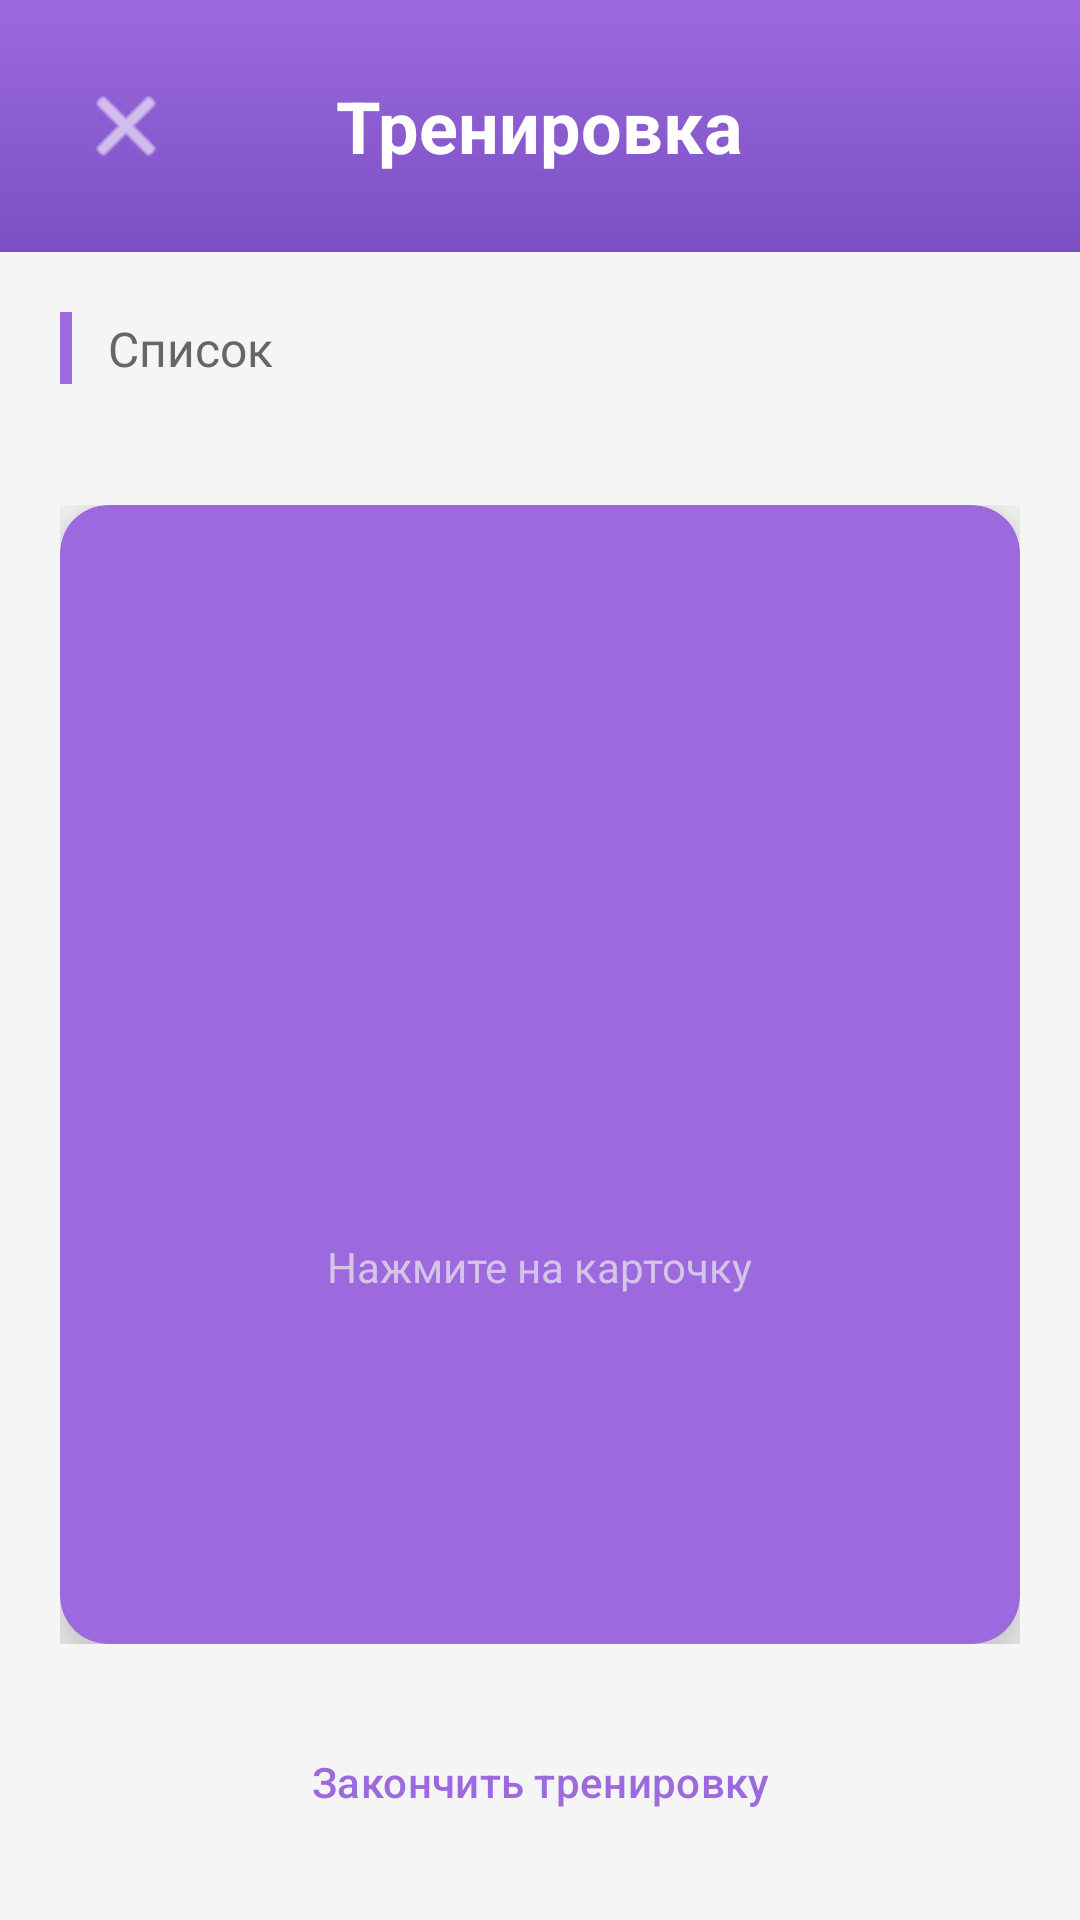

Icons on this 1080px x 1920px Android screen, each with the point to tap as point (x, y):
Отмена: point (126, 126)
